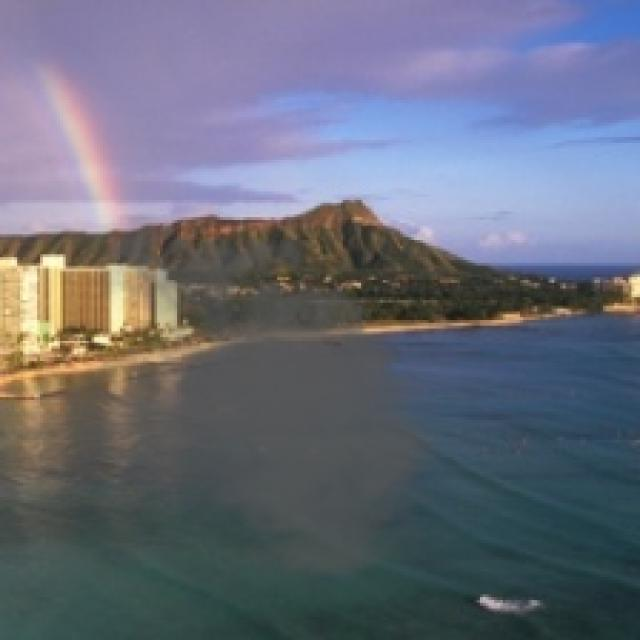smoke: (66, 211, 457, 586)
